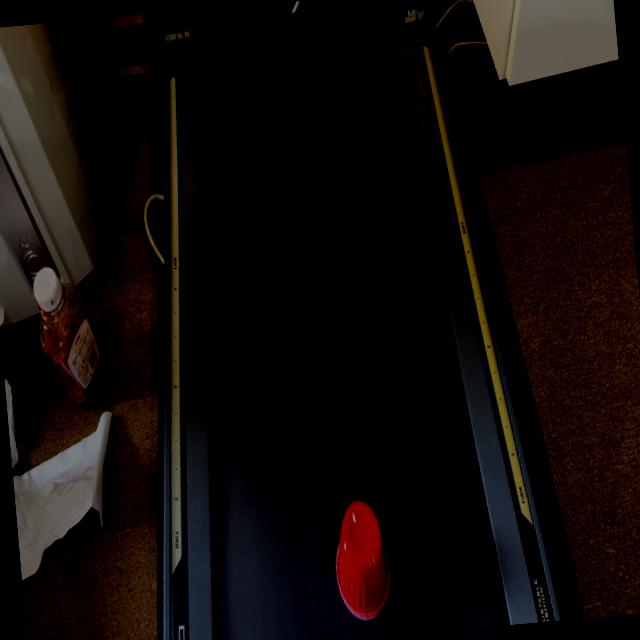Recycle: (328, 487, 407, 623)
Trash: (289, 0, 302, 46)
